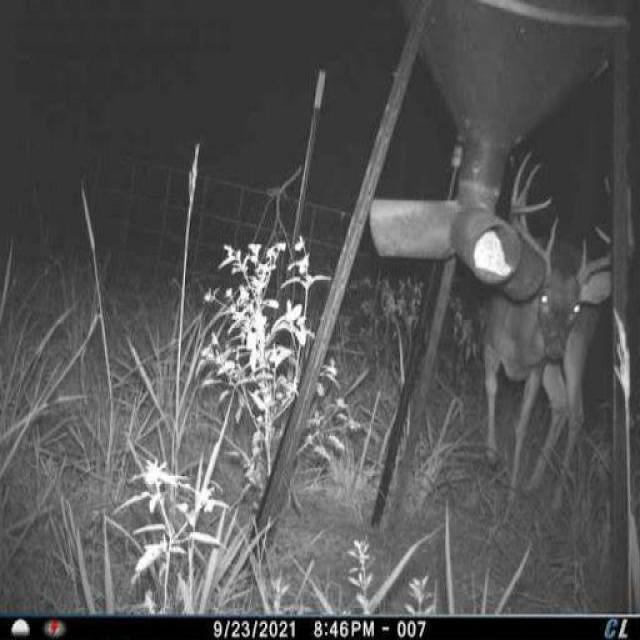deer: (468, 148, 624, 508)
